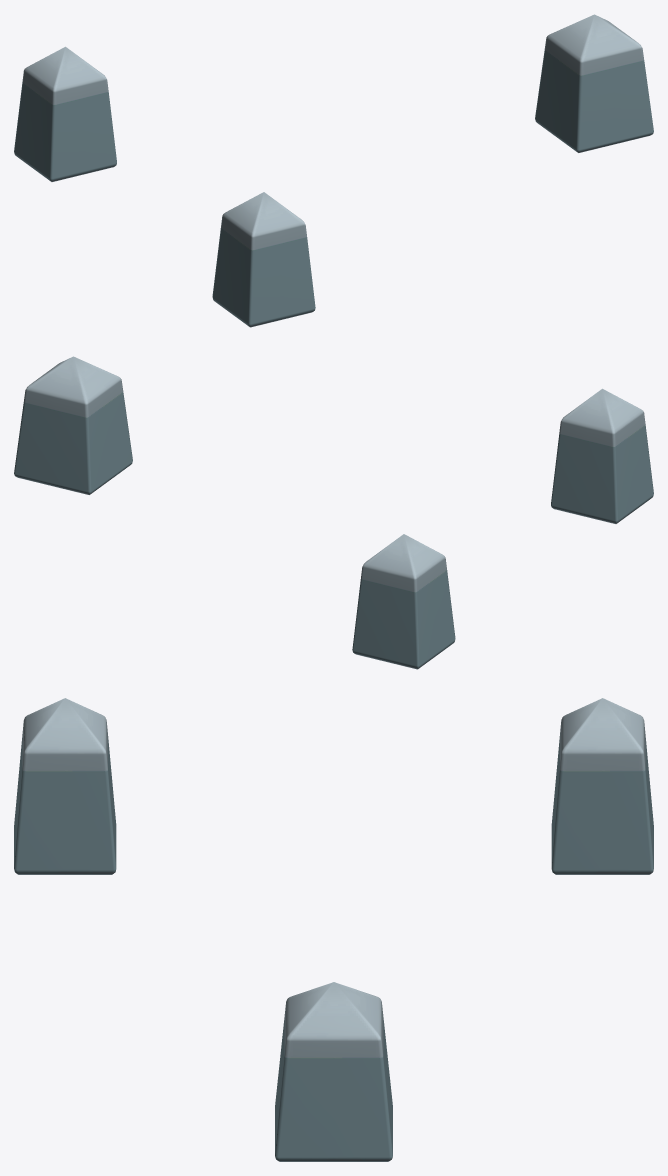
The model's file is Props.fbx.
3 views of the same model, one above another, from view 1: azimuth 30°, elevation 25°; view 2: azimuth 150°, elevation 25°; view 3: azimuth 270°, elevation 25° (orthographic). The views are drawn at different scales.
Visible parts, largest first — view 1: 棱锥 (×3); view 2: 棱锥 (×3); view 3: 棱锥 (×3).
Part boxes in pixels (x1,y1,x2,y2): 棱锥 (×3): (14, 14, 653, 327); 棱锥 (×3): (14, 356, 653, 669); 棱锥 (×3): (14, 698, 653, 1161).
Size of the model in its own units: 29.19 by 6.42 by 23.81.
